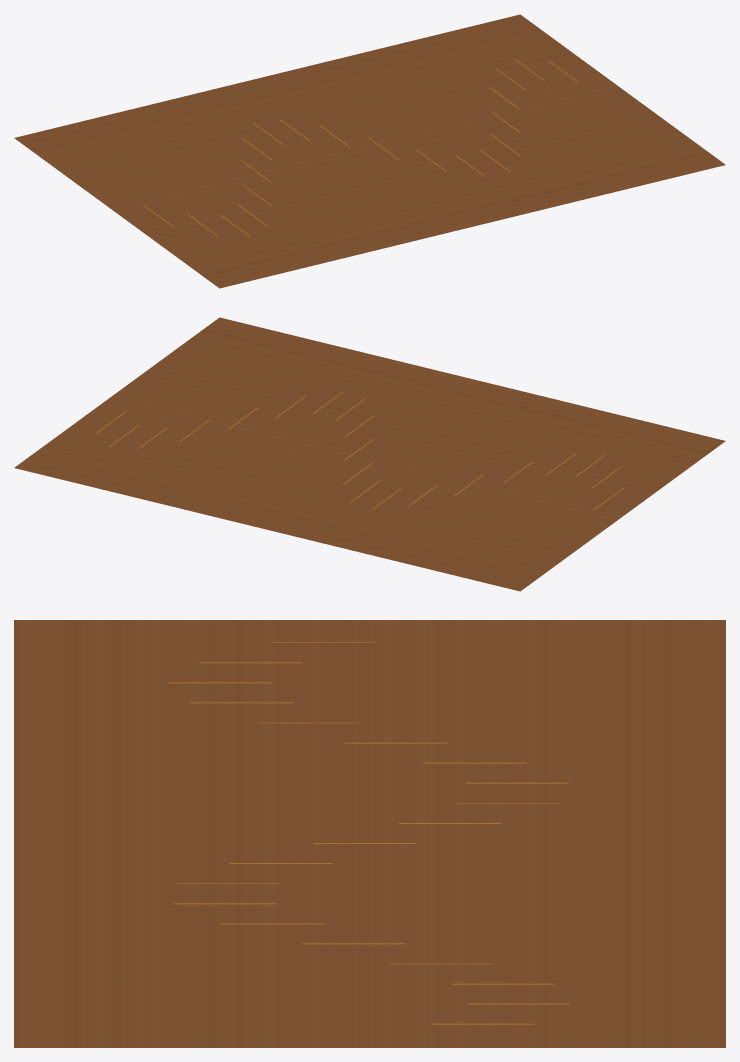
File: 248_L118_L11_LayerReference.obj
3 renders of one model, top to bottom at view 1: azimuth 30°, elevation 25°; view 2: azimuth 150°, elevation 25°; view 3: azimuth 270°, elevation 25°, orthographic. The views are drawn at different scales.
Visible parts, largest first — view 1: 248_L118_L11_LayerReference; view 2: 248_L118_L11_LayerReference; view 3: 248_L118_L11_LayerReference.
Boxes of the visible parts, bbox=[...] form: 248_L118_L11_LayerReference: bbox=[14, 14, 725, 288]; 248_L118_L11_LayerReference: bbox=[14, 317, 725, 591]; 248_L118_L11_LayerReference: bbox=[14, 620, 725, 1047].
Size of the model in its own units: 0.472 by 0.000514 by 0.332.
2 materials, 2 textured.
